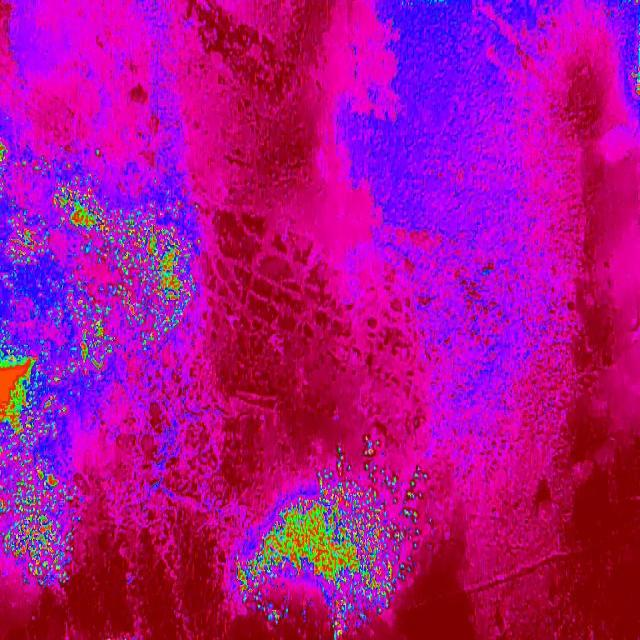fire: (0, 140, 100, 590), (100, 184, 206, 410), (234, 491, 390, 640), (390, 457, 428, 597), (316, 435, 391, 490), (631, 0, 640, 102)
